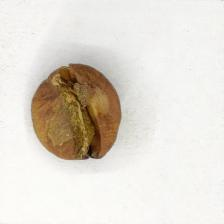NG: (38, 68, 110, 155)
